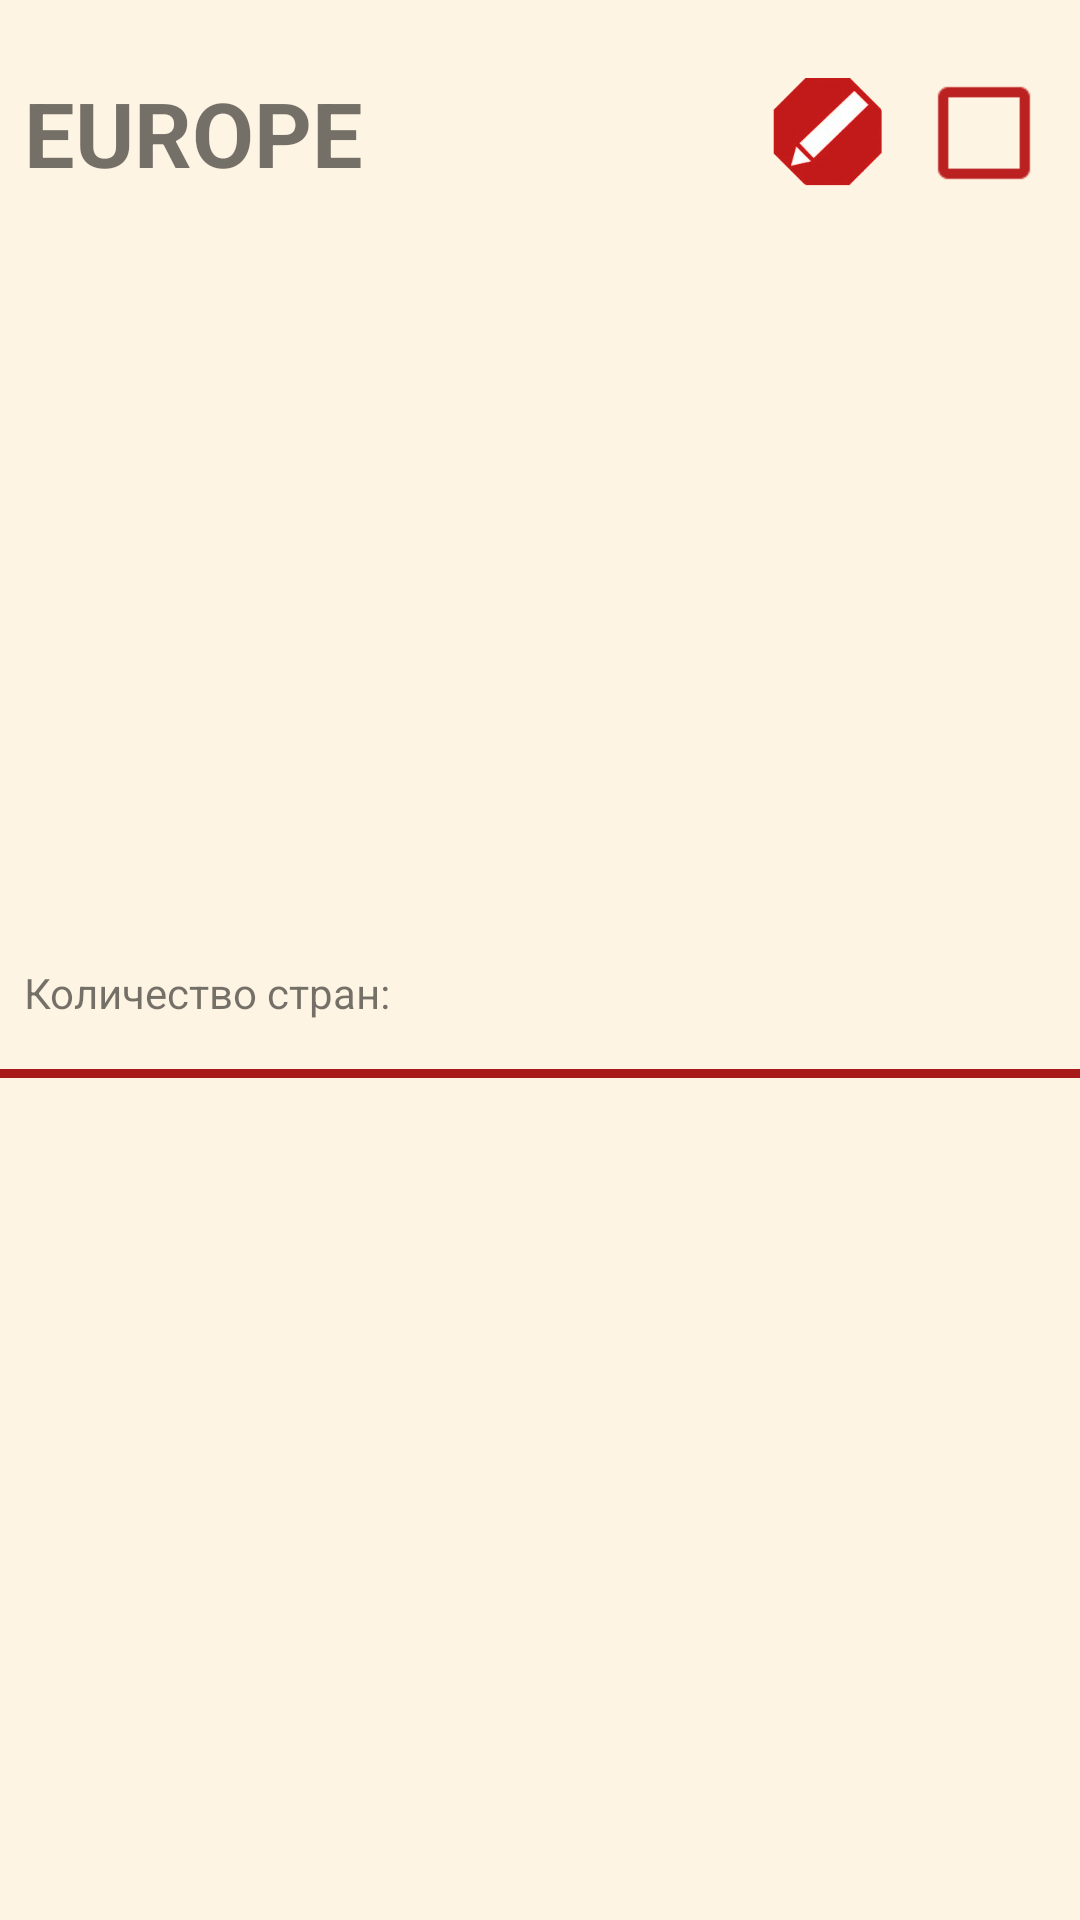

Where icons sit on this 1080px x 1920px app screen, as [left=x1, top=y1, right=x2, bottom=y2]:
awe edit: [left=773, top=78, right=882, bottom=186]
